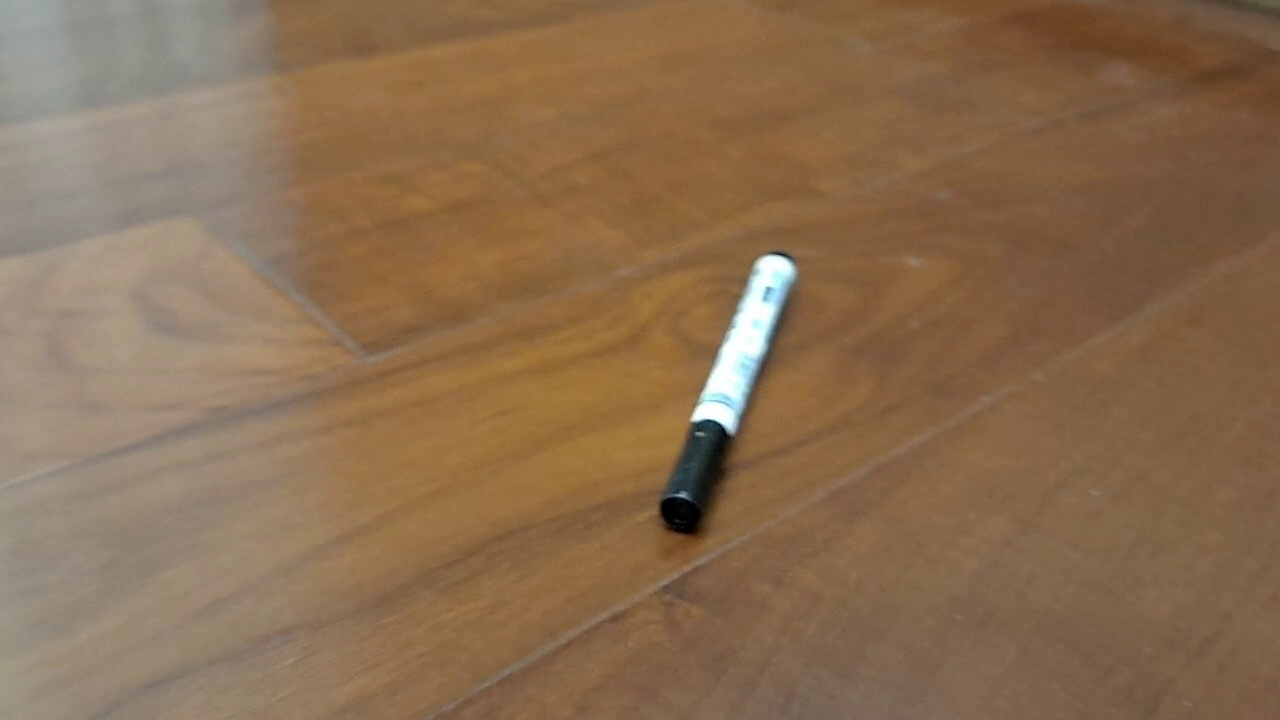pen: (659, 250, 799, 534)
